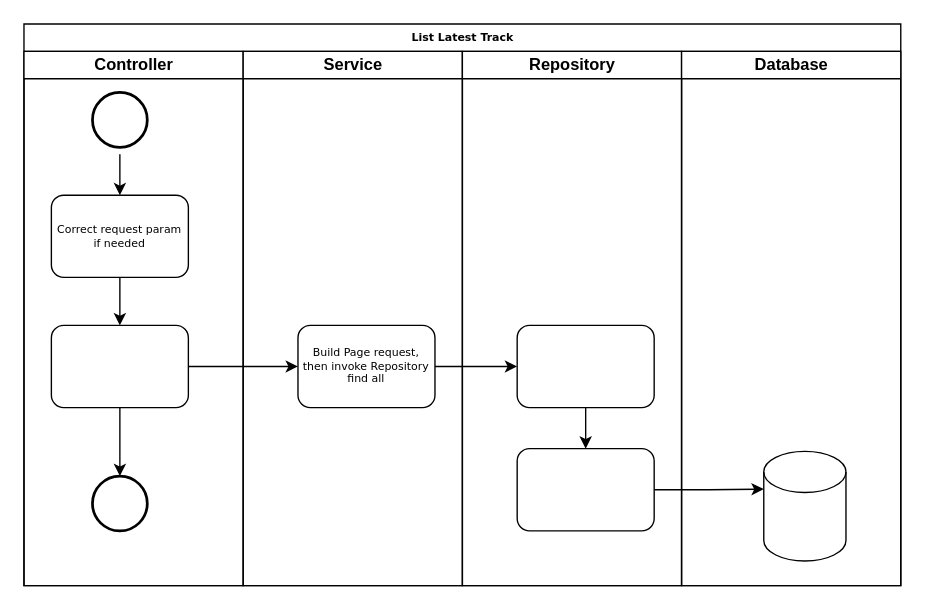
This 925x610 diagram has some shape labels left out. Each missing label, with the centre of its shape:
Build Projection of GPS, just return name and description of GPS: [585,366]
Call list latest track service: [119,366]
H2: [804,505]
Use Spring Data built-in feature to find all: [585,489]
